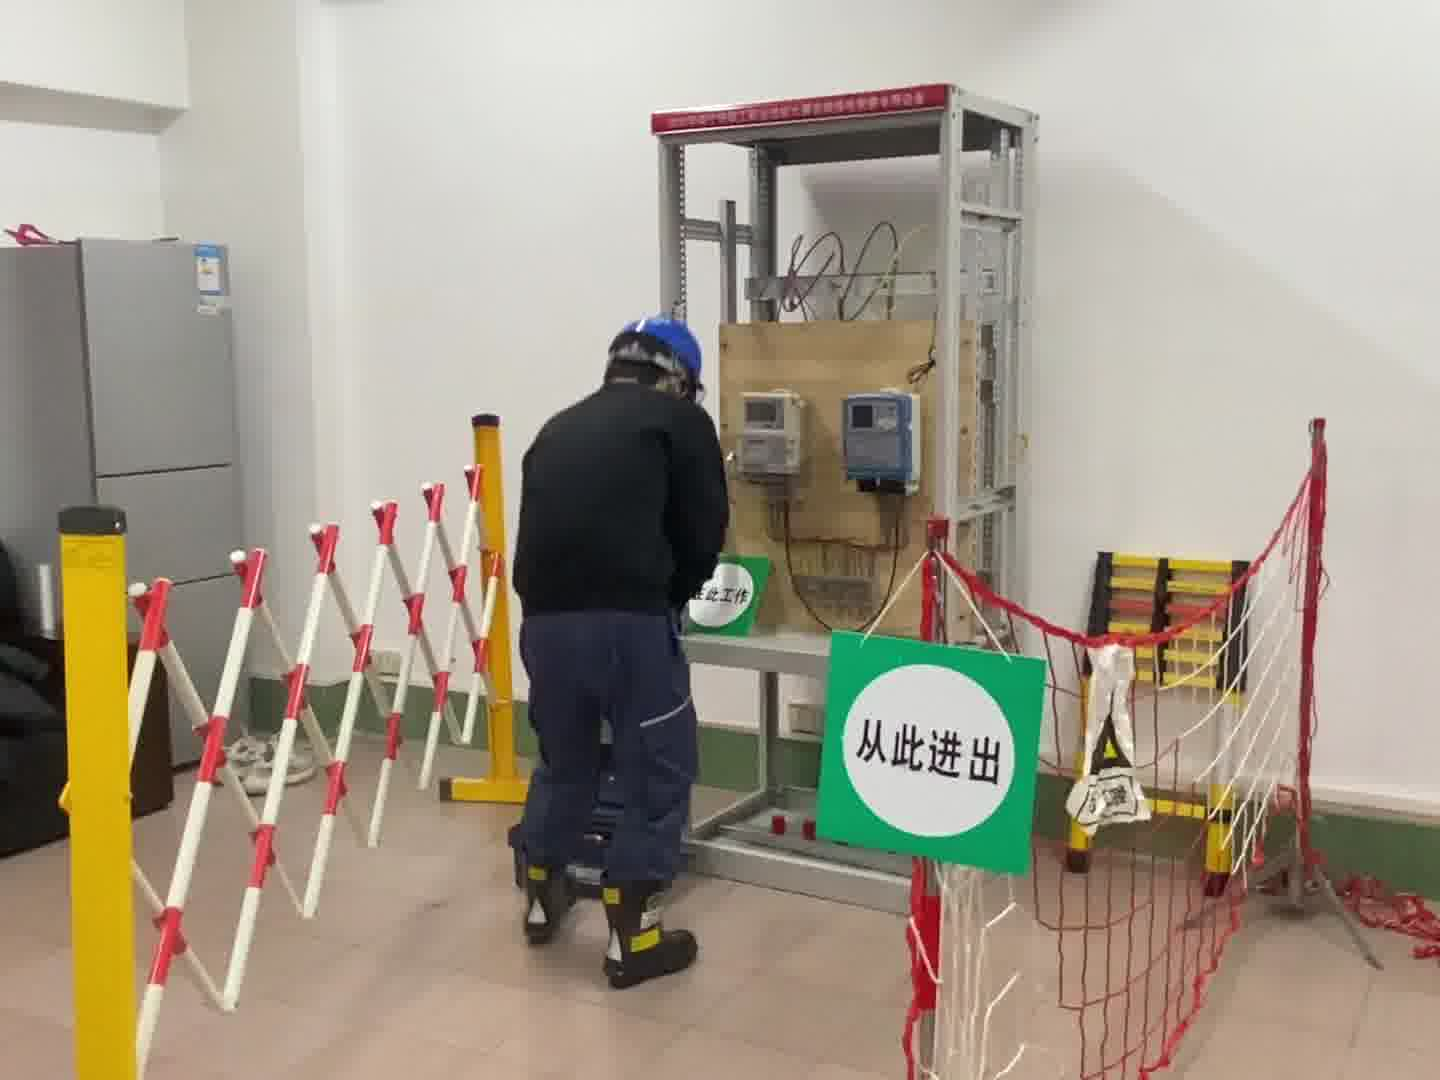halt: (605, 318, 708, 398)
